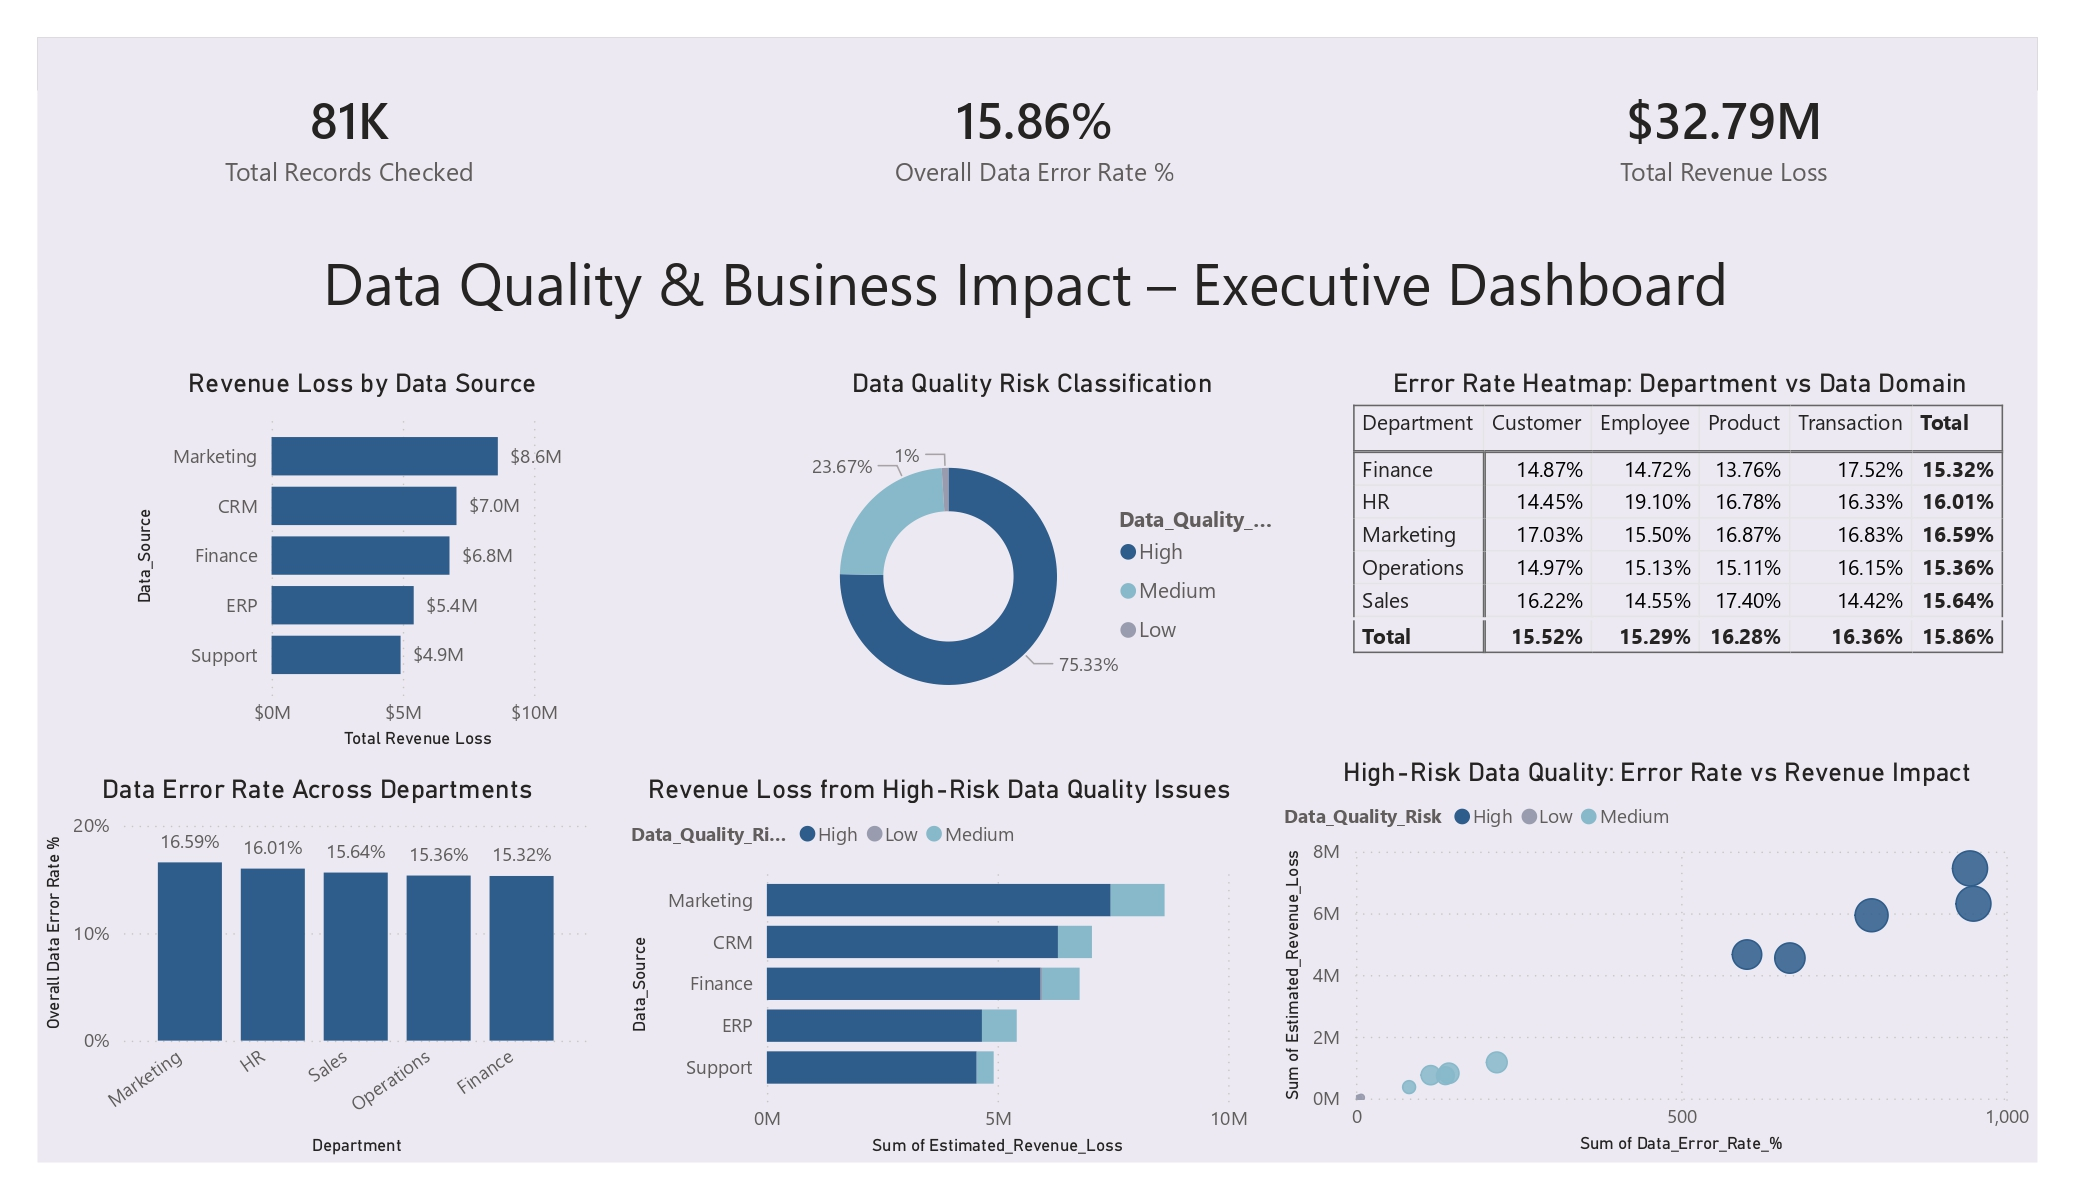

The dashboard page shown, as its layout file describes it:
{"tool":"powerbi","page":{"name":"Page 1","canvas":[1280,720],"ordinal":0},"visuals":[{"type":"cardVisual","fields":{"Data":["data_quality_business_impact_clean.Total Records Checked"]},"box":[85.1,0,229.2,126.2],"z":0},{"type":"cardVisual","fields":{"Data":["data_quality_business_impact_clean.Overall Data Error Rate %"]},"box":[517.3,0,242.9,126.2],"z":1},{"type":"cardVisual","fields":{"Data":["data_quality_business_impact_clean.Total Revenue Loss"]},"box":[964.7,0,229.2,126.2],"z":2},{"type":"clusteredBarChart","title":"Revenue Loss by Data Source","fields":{"Category":["data_quality_business_impact_clean.Data_Source"],"Y":["data_quality_business_impact_clean.Total Revenue Loss"]},"box":[57.6,211.3,300.5,248.4],"z":3},{"type":"clusteredColumnChart","title":"Data Error Rate Across Departments","fields":{"Category":["data_quality_business_impact_clean.Department"],"Y":["data_quality_business_impact_clean.Overall Data Error Rate %"]},"box":[0,470.7,358.1,249.7],"z":4},{"type":"donutChart","title":"Data Quality Risk Classification","fields":{"Category":["data_quality_business_impact_clean.Data_Quality_Risk"],"Y":["CountNonNull(data_quality_business_impact_clean.Record_ID)"]},"box":[469.3,211.3,334.8,248.4],"z":5},{"type":"pivotTable","title":"Error Rate Heatmap: Department vs Data Domain","fields":{"Rows":["data_quality_business_impact_clean.Department"],"Columns":["data_quality_business_impact_clean.Data_Domain"],"Values":["data_quality_business_impact_clean.Overall Data Error Rate %"]},"box":[837.1,211.3,428.1,199],"z":6},{"type":"barChart","title":"Revenue Loss from High-Risk Data Quality Issues","fields":{"Category":["data_quality_business_impact_clean.Data_Source"],"Y":["Sum(data_quality_business_impact_clean.Estimated_Revenue_Loss)"],"Series":["data_quality_business_impact_clean.Data_Quality_Risk"]},"box":[374.6,470.7,404.8,249.7],"z":7},{"type":"scatterChart","title":"High-Risk Data Quality: Error Rate vs Revenue Impact","fields":{"X":["Sum(data_quality_business_impact_clean.Data_Error_Rate_%)"],"Y":["Sum(data_quality_business_impact_clean.Estimated_Revenue_Loss)"],"Category":["data_quality_business_impact_clean.Data_Source"],"Size":["data_quality_business_impact_clean.Total Records Checked"],"Series":["data_quality_business_impact_clean.Data_Quality_Risk"]},"box":[793.1,459.7,487.1,259.3],"z":8},{"type":"textbox","box":[0,126.2,1265.2,60.4],"z":9}]}

Visuals, with their boxes on the page's 1280x720 design canvas (x1, y1, x2, y2). These are canvas units, not pixel positions in the 2075x1200 screenshot, which may show the page scaled, cropped or inside an application window:
cardVisual - data_quality_business_impact_clean.Total Records Checked: BBox(85, 0, 314, 126)
cardVisual - data_quality_business_impact_clean.Overall Data Error Rate %: BBox(517, 0, 760, 126)
cardVisual - data_quality_business_impact_clean.Total Revenue Loss: BBox(965, 0, 1194, 126)
"Revenue Loss by Data Source" clusteredBarChart: BBox(58, 211, 358, 460)
"Data Error Rate Across Departments" clusteredColumnChart: BBox(0, 471, 358, 720)
"Data Quality Risk Classification" donutChart: BBox(469, 211, 804, 460)
"Error Rate Heatmap: Department vs Data Domain" pivotTable: BBox(837, 211, 1265, 410)
"Revenue Loss from High-Risk Data Quality Issues" barChart: BBox(375, 471, 779, 720)
"High-Risk Data Quality: Error Rate vs Revenue Impact" scatterChart: BBox(793, 460, 1280, 719)
textbox: BBox(0, 126, 1265, 187)
